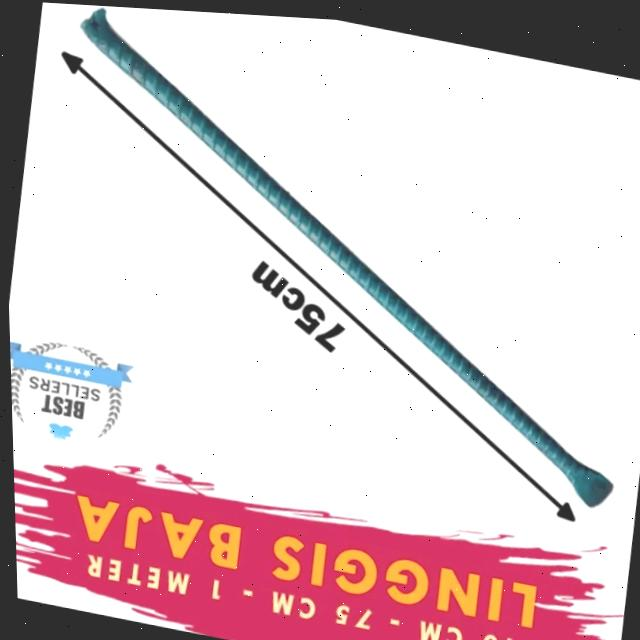crow bar: (71, 4, 619, 511)
